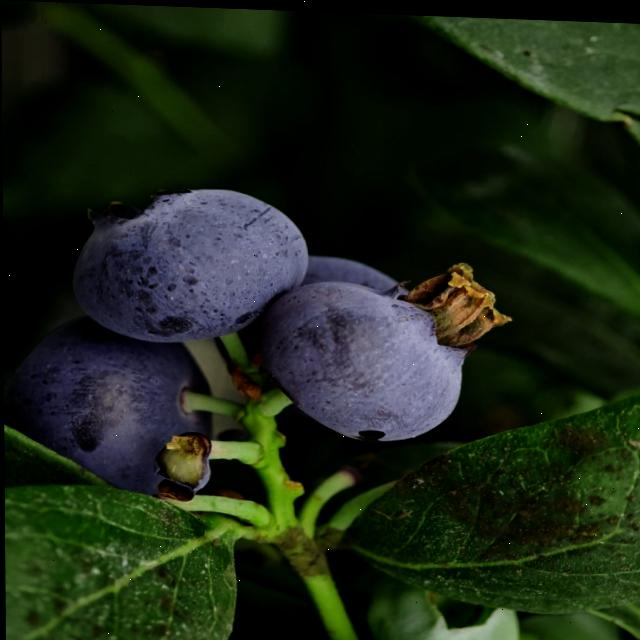RipeBlueBerry: (7, 318, 218, 499), (69, 181, 305, 342), (259, 285, 469, 441)
